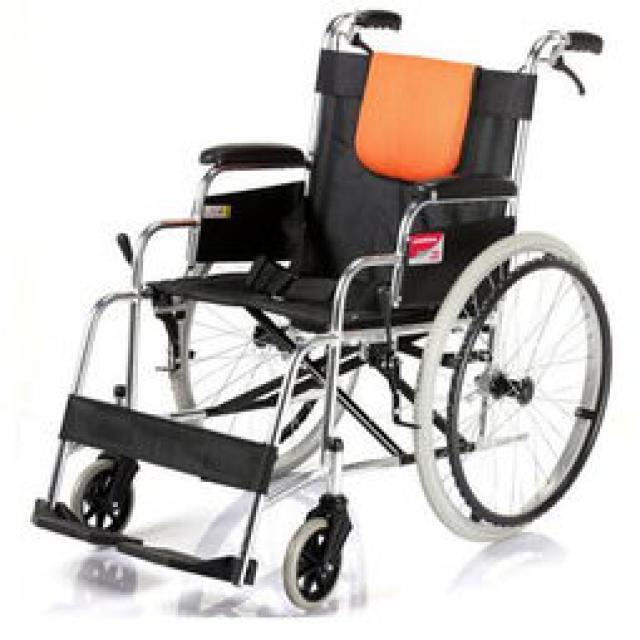wheelchairs: (38, 6, 610, 600)
